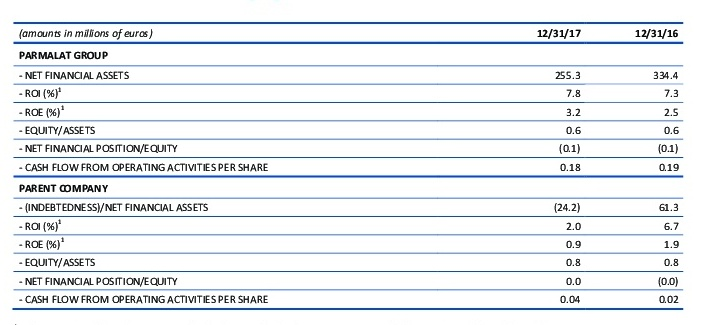table: (0, 0, 702, 325)
